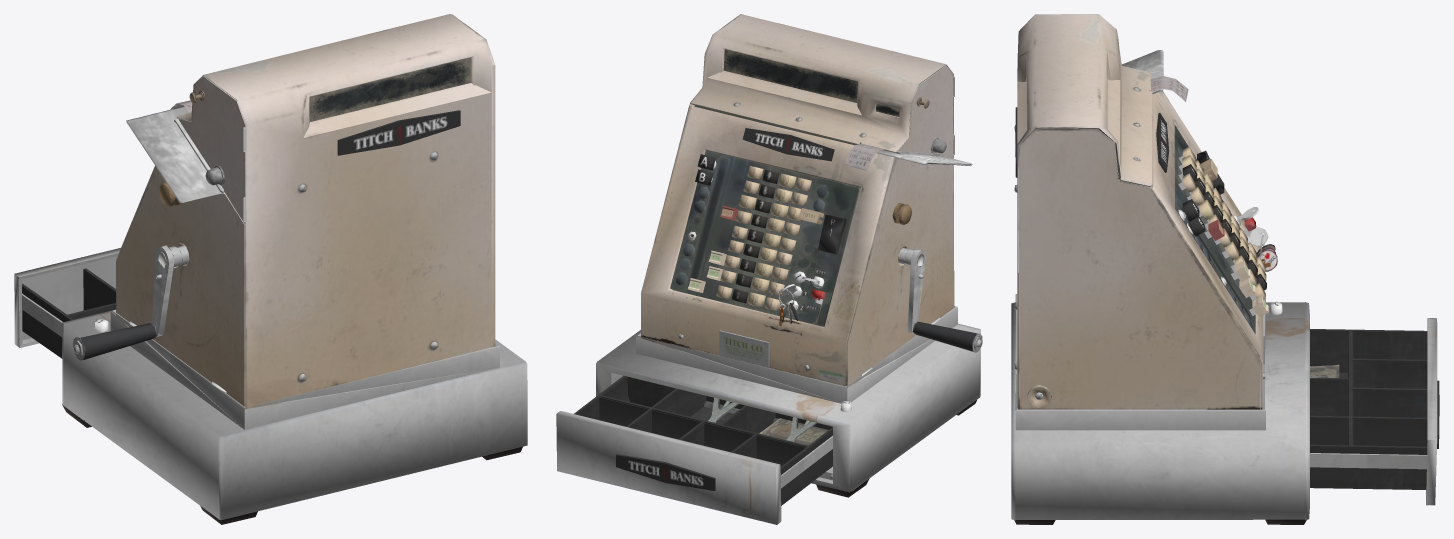
File: till.glb
3 views of the same model, side by side, from view 1: azimuth 30°, elevation 25°; view 2: azimuth 150°, elevation 25°; view 3: azimuth 270°, elevation 25° (orthographic). The views are drawn at different scales.
Visible parts, largest first — view 1: till; view 2: till; view 3: till.
Part boxes in pixels (box(x1,y1,x2,y2)): till: box(14, 14, 527, 524); till: box(556, 14, 982, 524); till: box(1011, 14, 1439, 524).
Size of the model in its own units: 0.3471 by 0.3598 by 0.3609.
2 materials, 2 textured.
